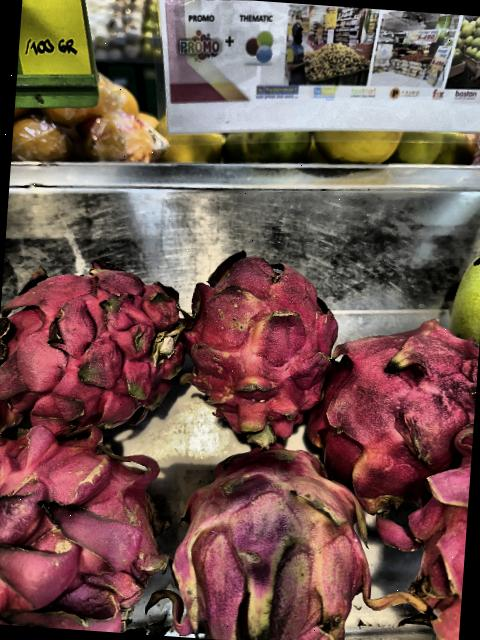buah-naga-belum-matang: (167, 438, 393, 640)
buah-naga-matang: (0, 235, 198, 443), (0, 419, 182, 636), (305, 296, 480, 486), (179, 244, 336, 443), (394, 425, 473, 640)
